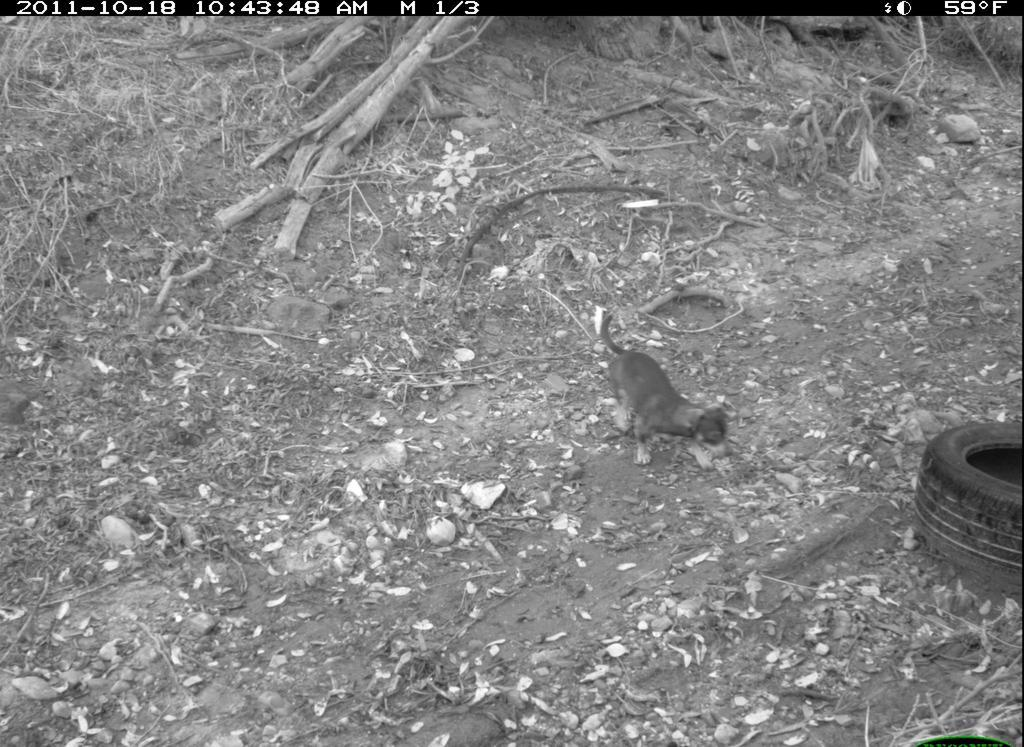dog: (577, 300, 742, 463)
